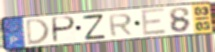8: (168, 7, 192, 34)
D: (25, 17, 51, 47)
E: (139, 7, 168, 37)
P: (51, 16, 77, 44)
R: (107, 13, 134, 38)
Z: (81, 13, 108, 42)
